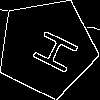H: (22, 23, 80, 76)
